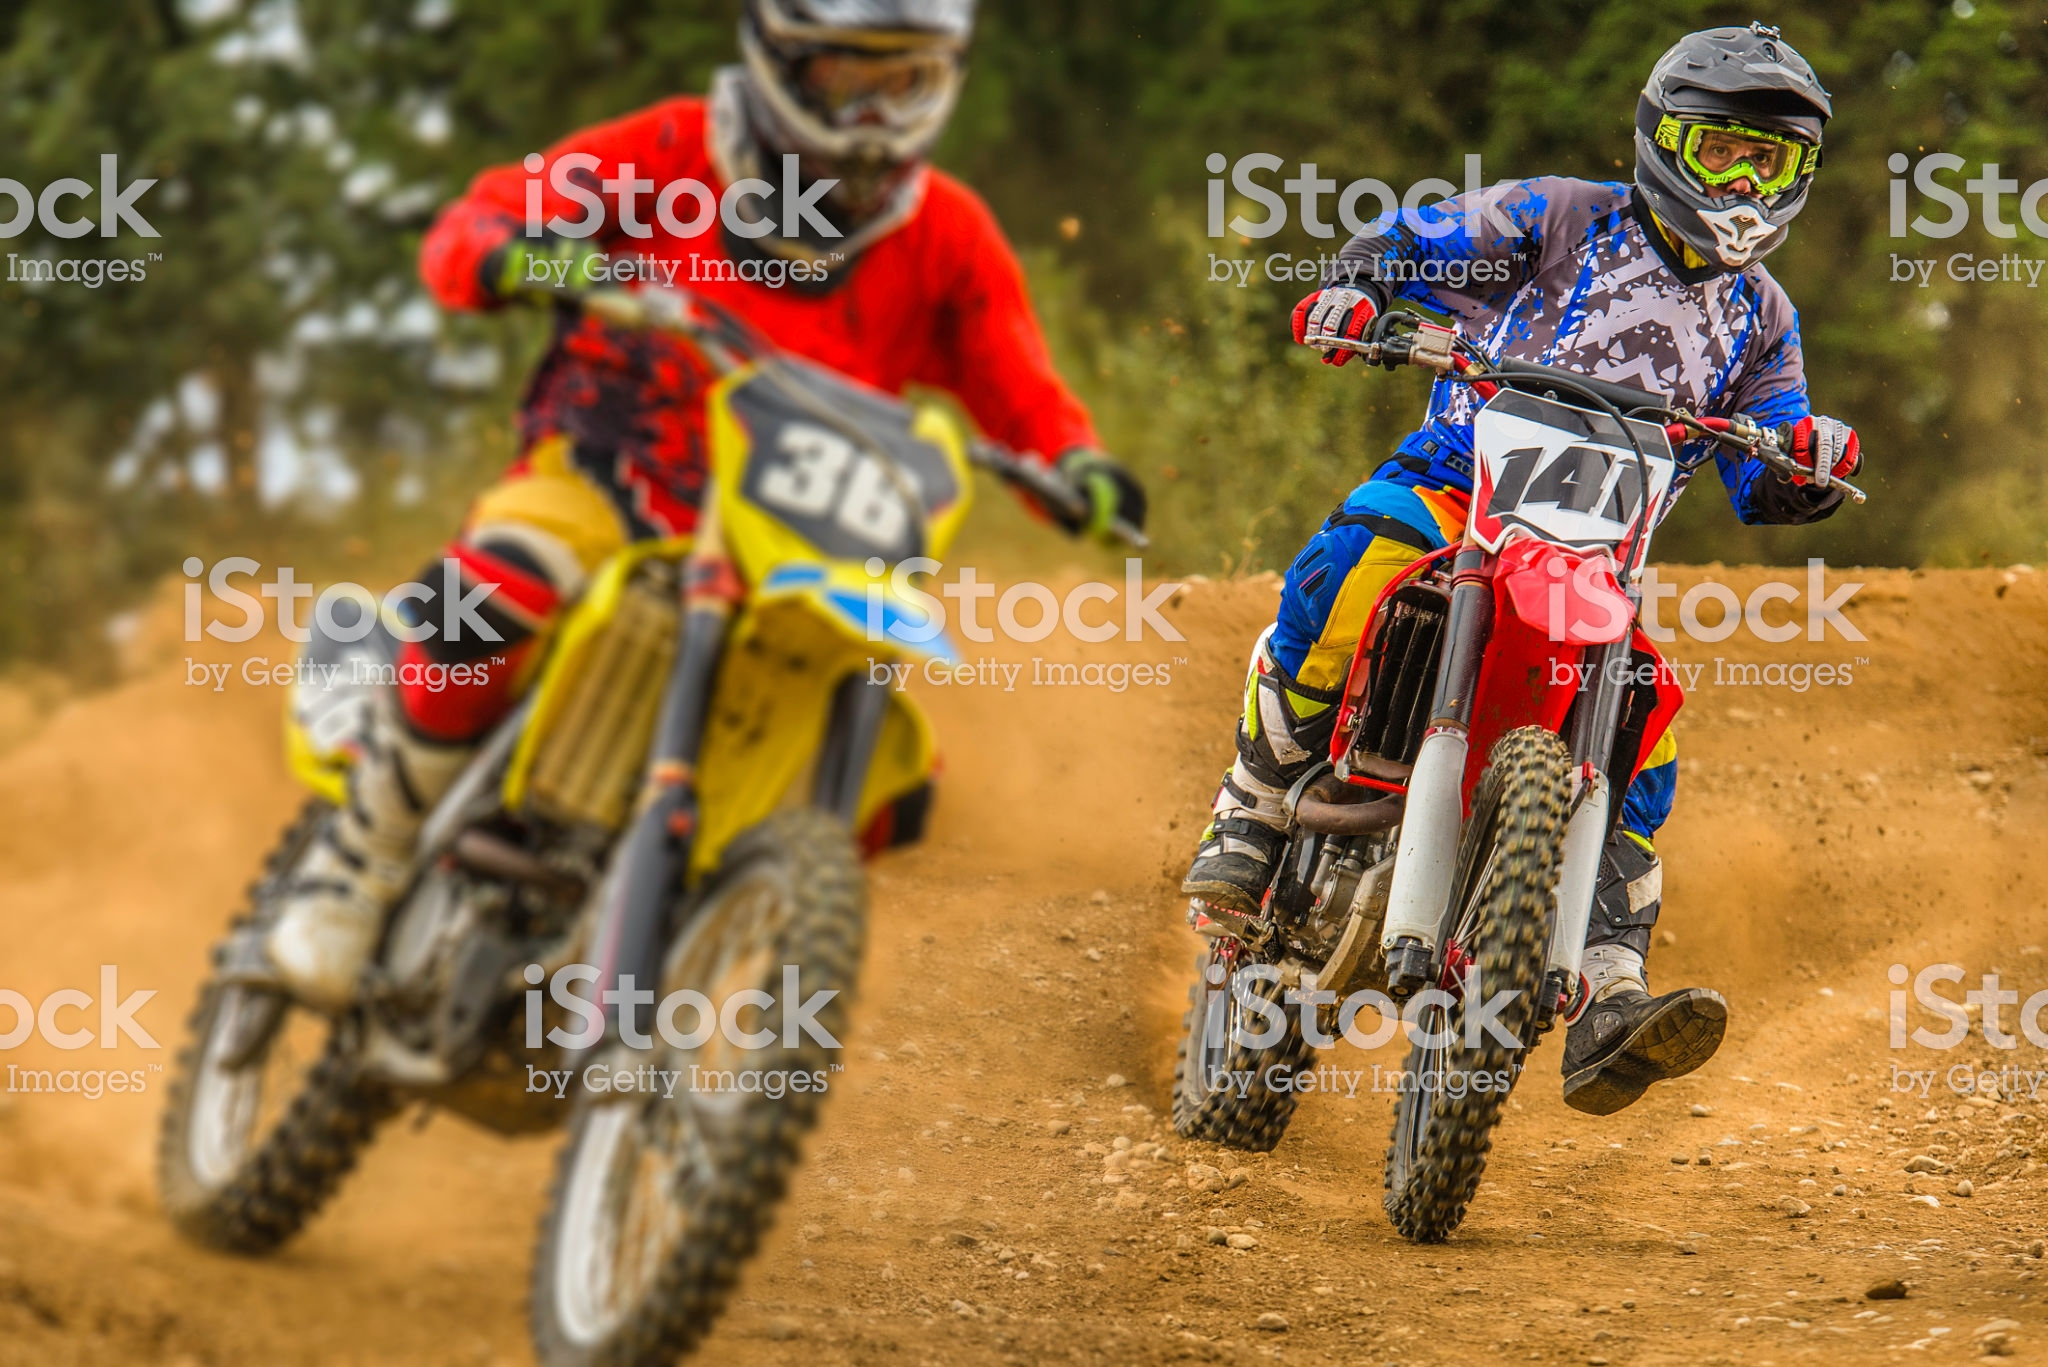helmet: (1635, 24, 1851, 316)
